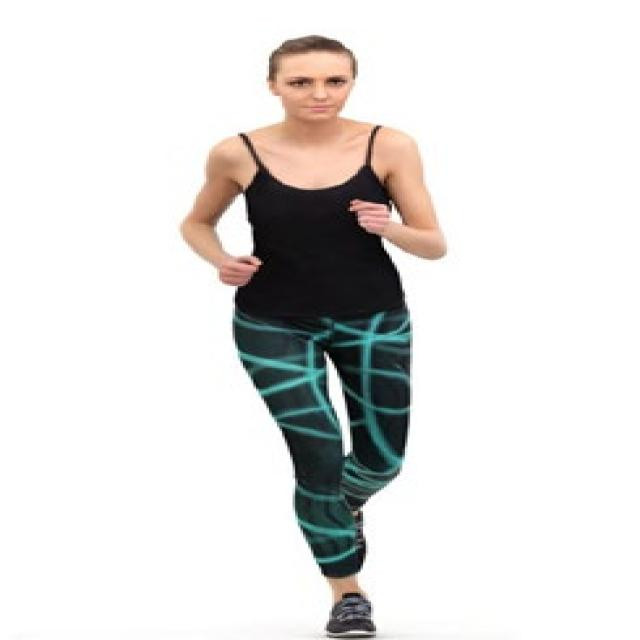running: (177, 32, 449, 640)
